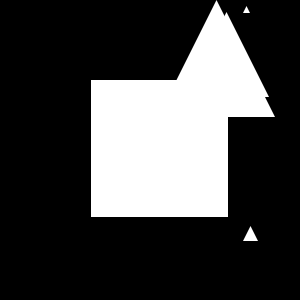circle: (91, 80, 228, 217)
triangle: (158, 0, 275, 117), (184, 12, 269, 97), (243, 226, 258, 241), (243, 6, 250, 13)
